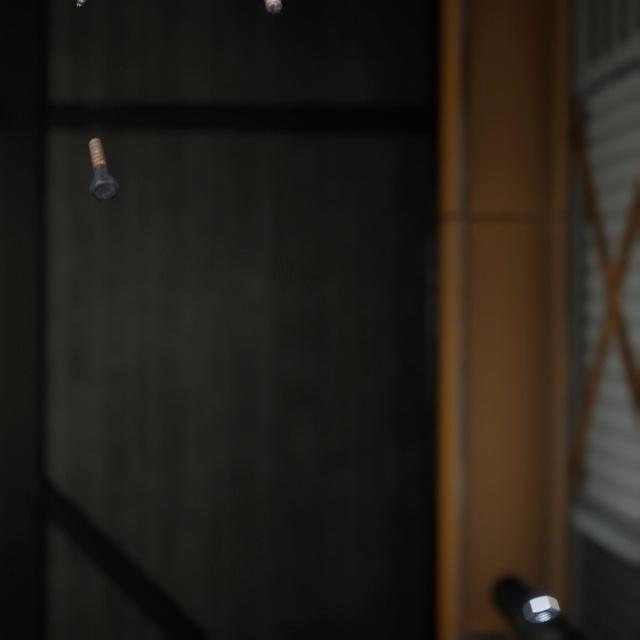bolt: (84, 120, 123, 191)
nut: (518, 567, 565, 605)
